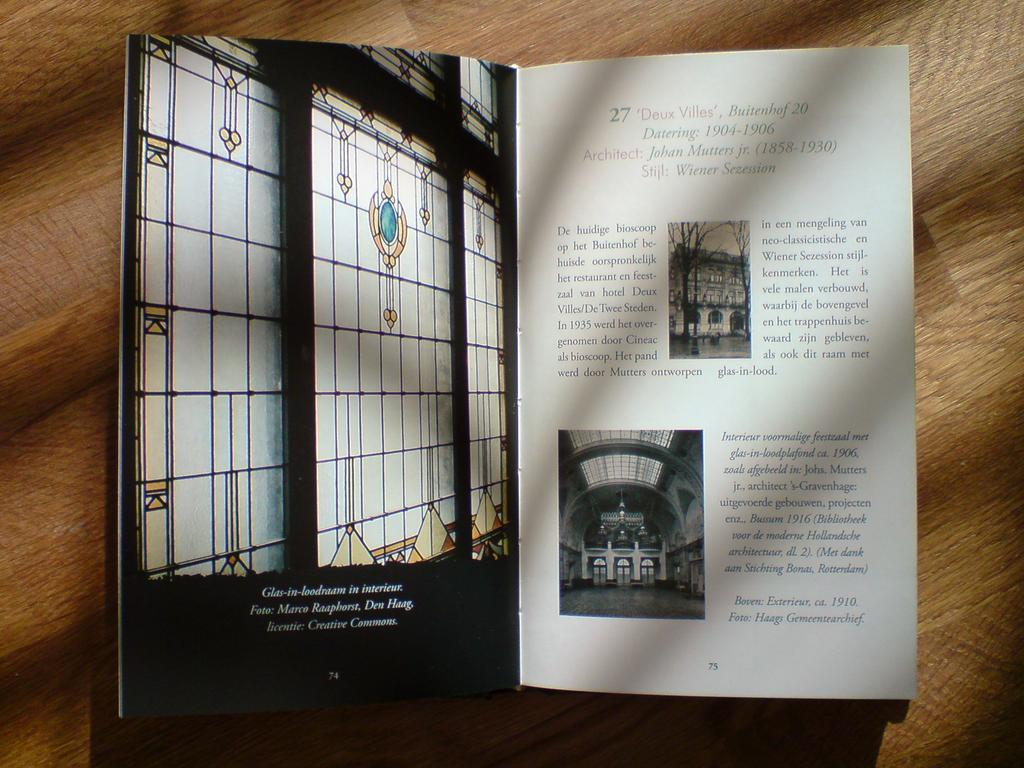book: (118, 31, 915, 723)
